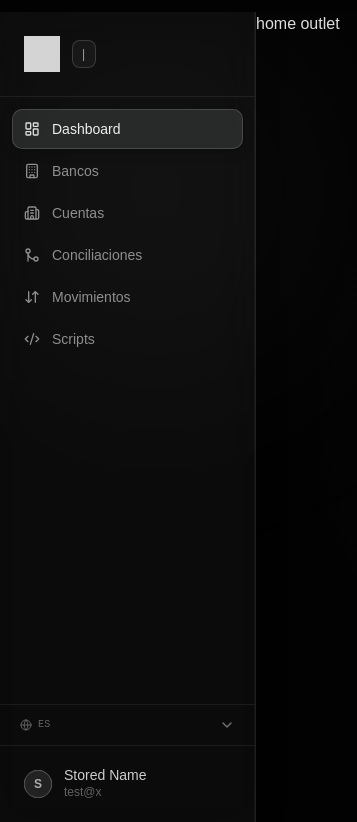
Test: AppLayout › opens the user dropdown menu with Settings and Logout entries
Click the button "S Stored Name test@x": x=128, y=784 top-left (12, 758), bottom-right (243, 810)
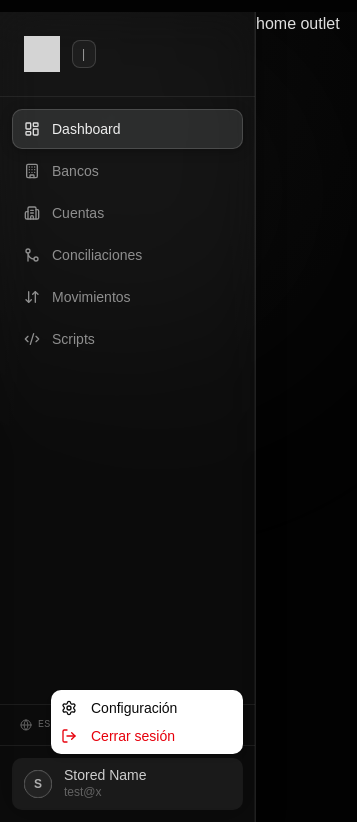
Check: the menu item "Configuración" is shown, box top-left (61, 700), bottom-right (177, 716)
Check: the menu item "Cerrar sesión" is shown, box top-left (61, 728), bottom-right (175, 744)
